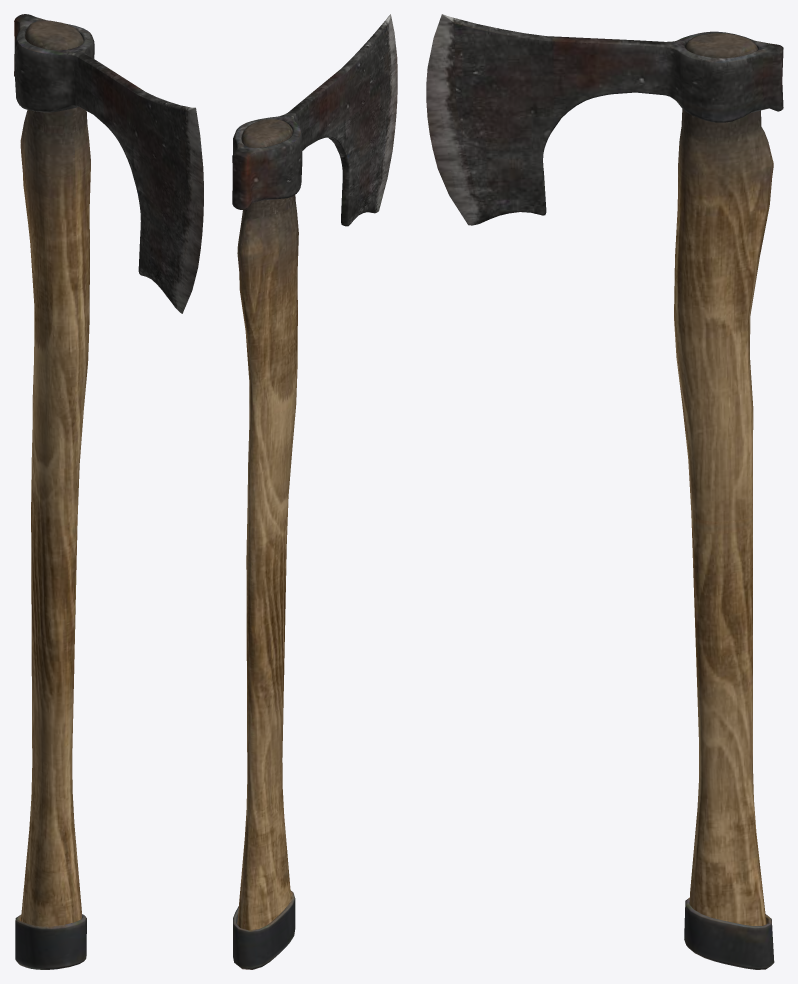
File: ph_wooden_axe.glb
The picture shows the model from 3 angles, left to right: view 1: azimuth 30°, elevation 25°; view 2: azimuth 150°, elevation 25°; view 3: azimuth 270°, elevation 25°; orthographic projection. The views are drawn at different scales.
Visible parts, largest first — view 1: wooden_axe; view 2: wooden_axe; view 3: wooden_axe.
Part boxes in pixels (x1,y1,x2,y2): wooden_axe: (14, 14, 203, 969); wooden_axe: (232, 14, 397, 969); wooden_axe: (426, 14, 783, 969).
Size of the model in its own units: 0.0472 by 0.6303 by 0.2143.
1 material, 1 textured.
